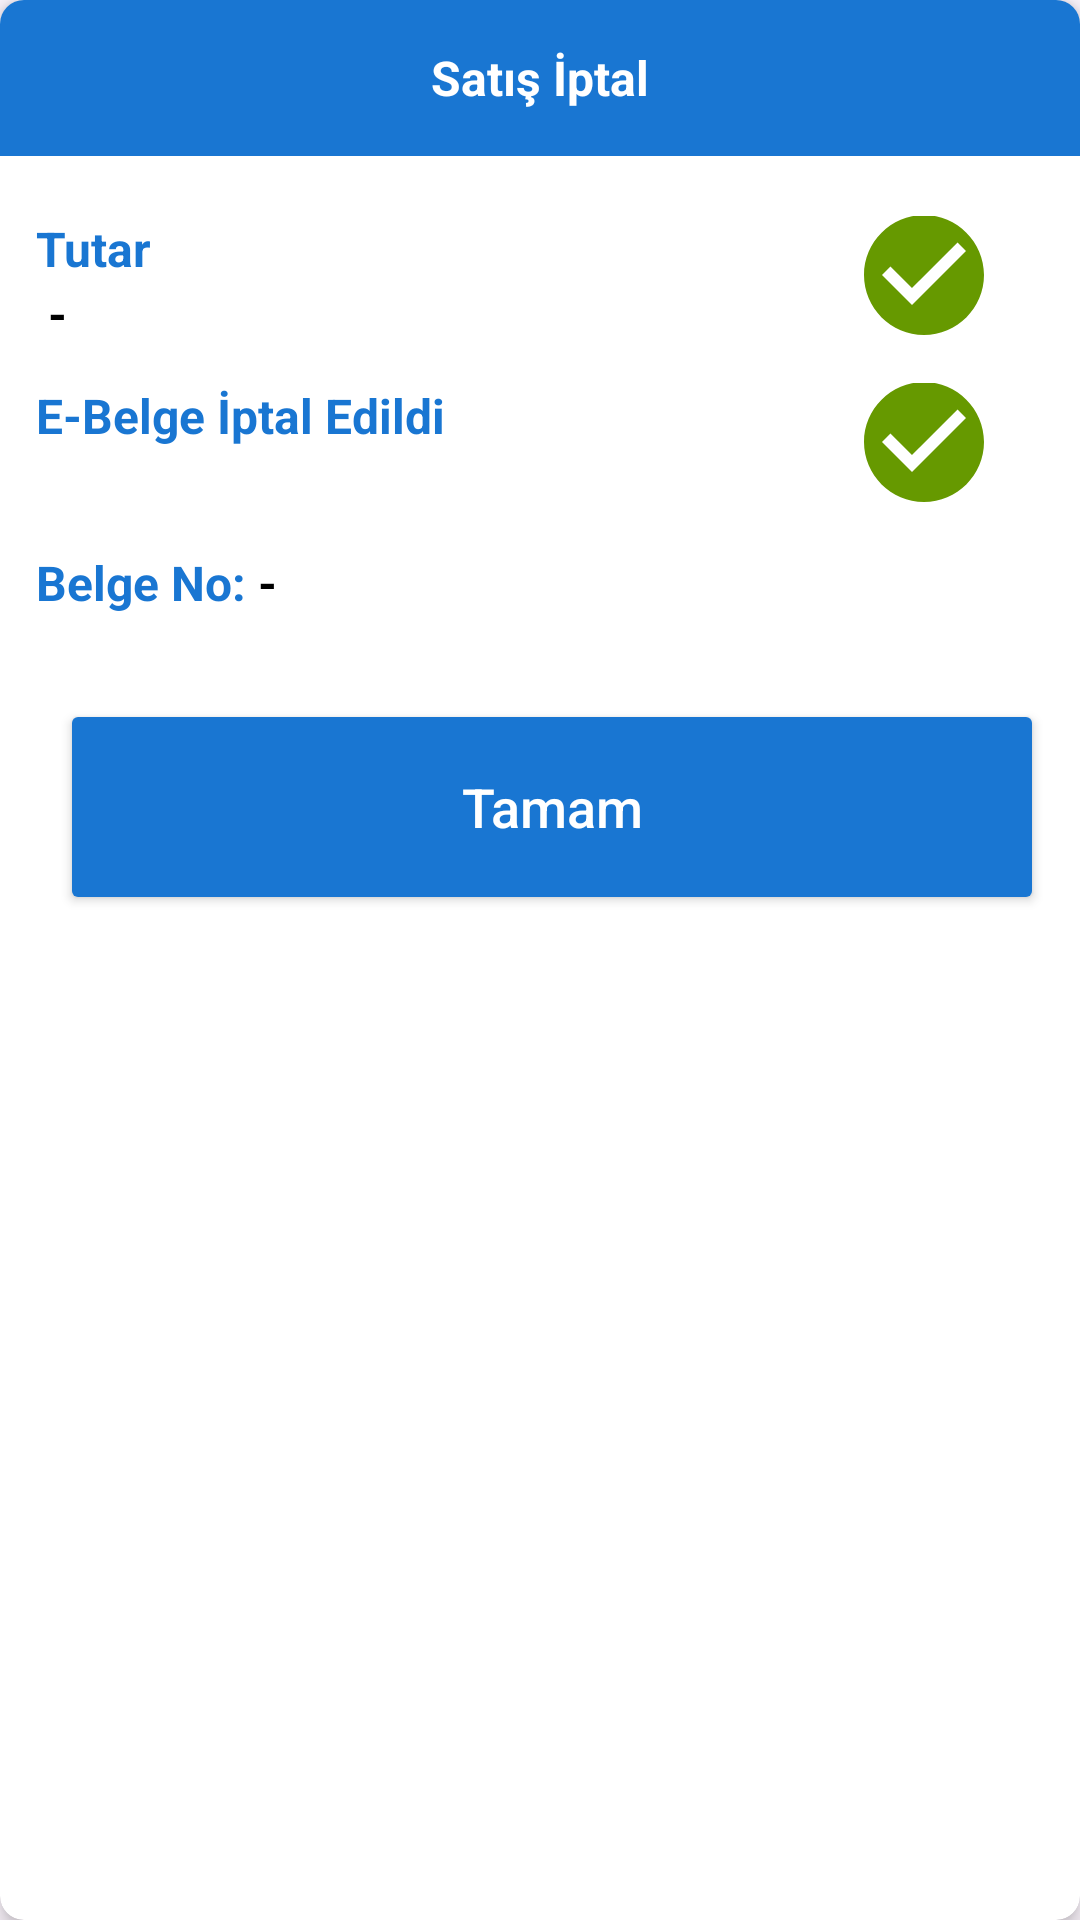

Screen size 1080w x 1920h. Icon name, then its center in pixels as [x,y]:
check circle: [924,275], [924,442]
